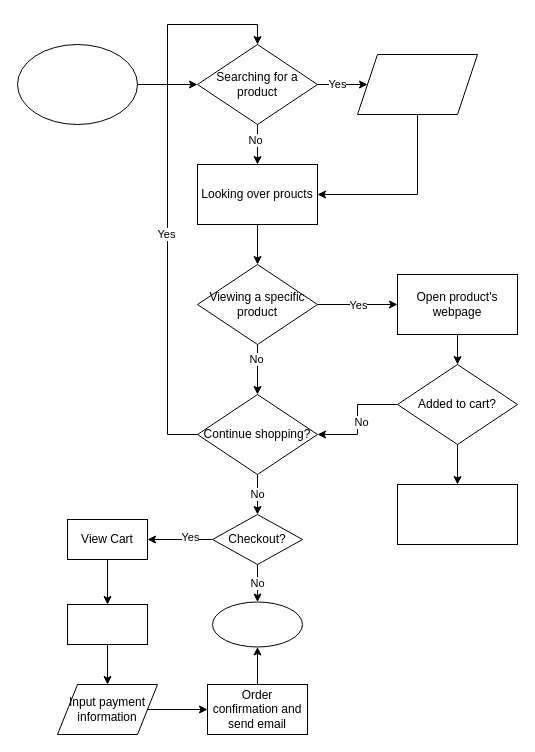
Some shapes in this 535 by 752 pixel diagram are drawn without their labels. Here are the shapes that lost their labels. From the top down, the box of each, then its label:
(16, 44, 138, 124): User enters website
(356, 54, 478, 114): User input
(396, 484, 518, 544): Adding item to cart confirmation
(66, 604, 148, 644): View Payment
(212, 601, 302, 647): Leave website
